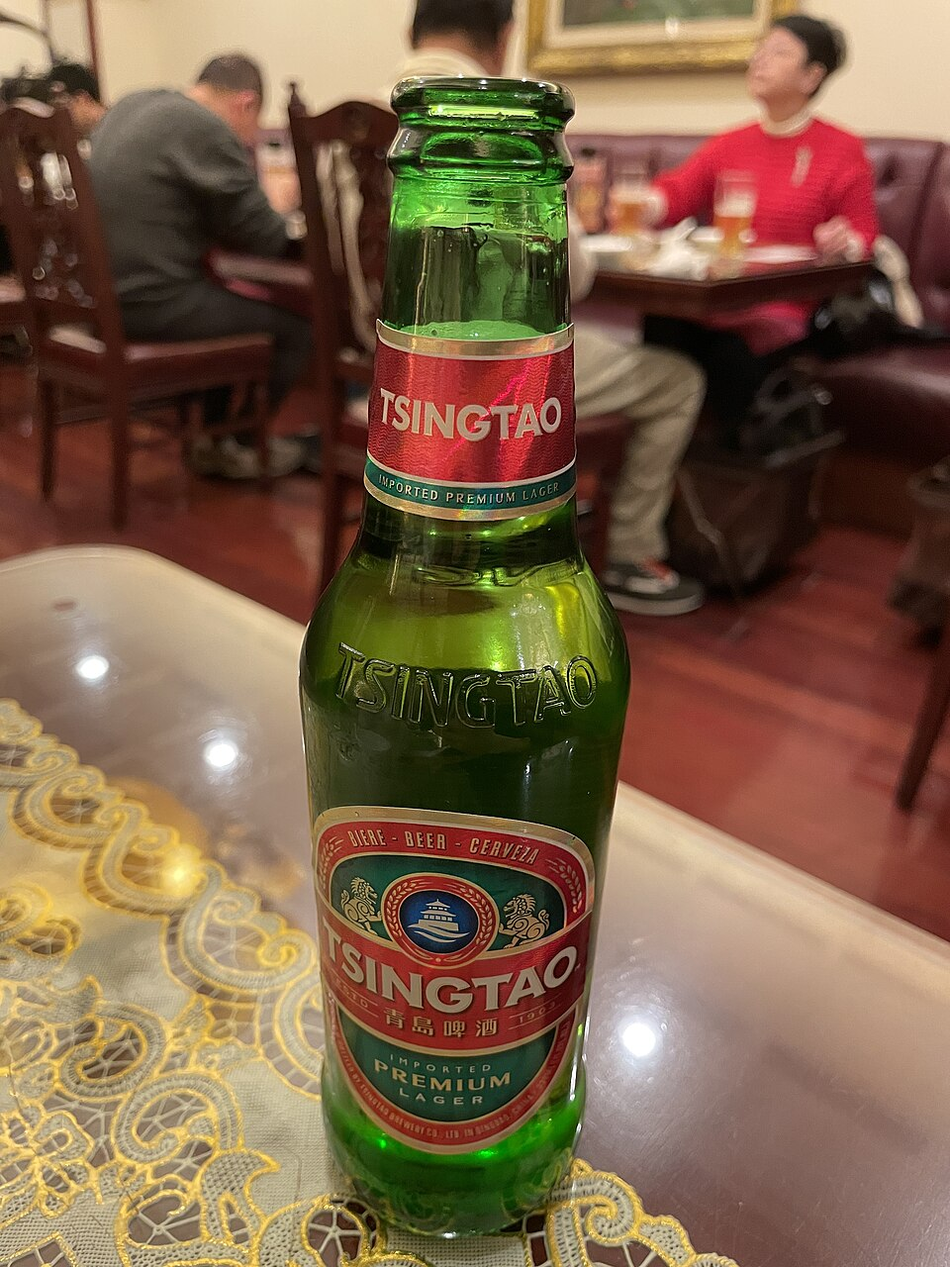beer-bottle: (281, 54, 652, 1263)
